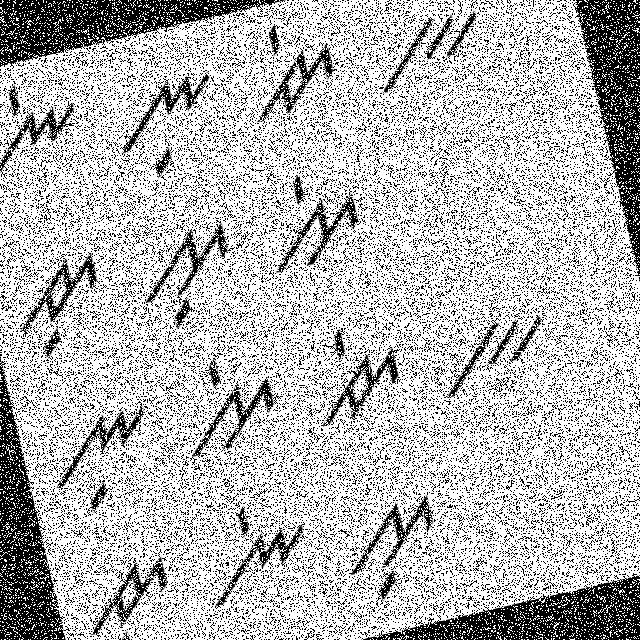je: (294, 311, 413, 437), (233, 8, 348, 127)
ju: (0, 241, 118, 368), (65, 539, 193, 639)
nye: (190, 483, 321, 612), (0, 67, 93, 196)
nyu: (34, 394, 166, 524), (103, 58, 234, 186)
se: (248, 154, 374, 282), (168, 342, 290, 463)
su: (119, 205, 248, 338), (330, 480, 460, 608)
